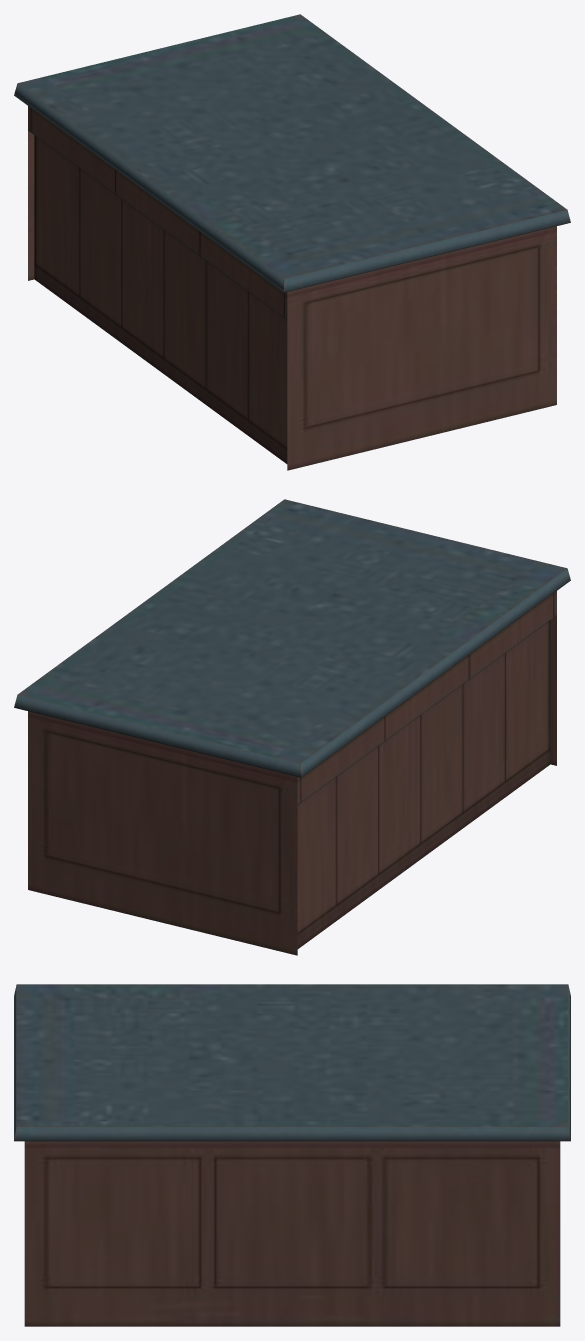
Rendered from station-counter.glb.
The picture shows the model from 3 angles, top to bottom: view 1: azimuth 30°, elevation 25°; view 2: azimuth 150°, elevation 25°; view 3: azimuth 270°, elevation 25°; orthographic projection. The views are drawn at different scales.
Visible parts, largest first — view 1: Station-counterBody; view 2: Station-counterBody; view 3: Station-counterBody.
Part boxes in pixels (<box>): Station-counterBody: <box>14,14,570,470</box>; Station-counterBody: <box>14,499,570,955</box>; Station-counterBody: <box>14,984,570,1326</box>.
Bounding box in the file's own units: 1.6 × 1.04 × 2.6.
1 material, 1 textured.
